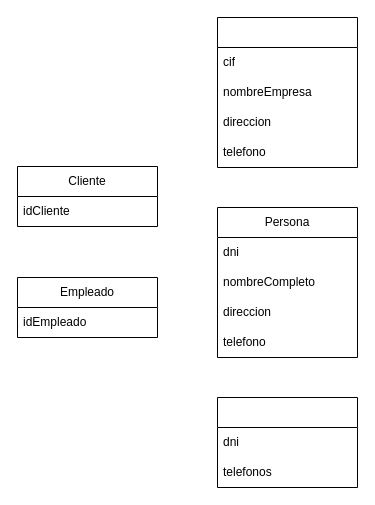
The diagram is 375 pixels wide and 505 high, and some of its shapes have lost their labels. The box of each missing label's shape, as (x1, y1, x2, y2) in pixels:
InformacionGeneral: (216, 16, 358, 168)
PersonaTelefono: (216, 396, 358, 488)
